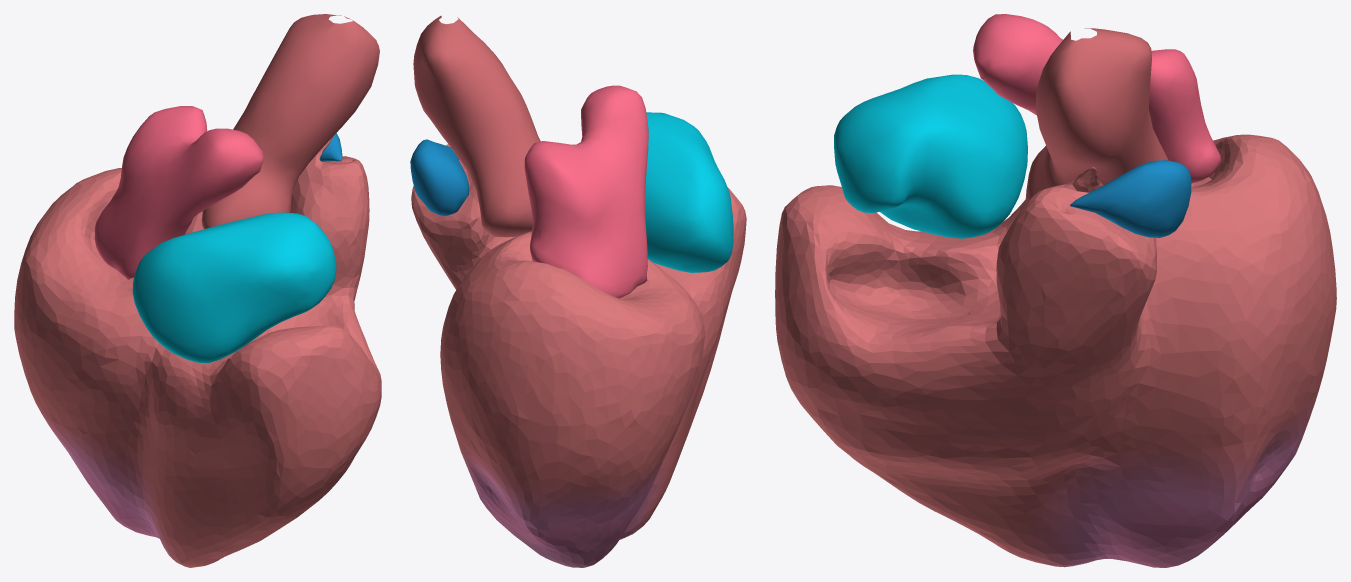
Rendered from frame_1.glb.
3 views of the same model, side by side, from view 1: azimuth 30°, elevation 25°; view 2: azimuth 150°, elevation 25°; view 3: azimuth 270°, elevation 25° (orthographic). The views are drawn at different scales.
Parts seen in each view (by area): view 1: Renderer Node; view 2: Renderer Node; view 3: Renderer Node.
Part boxes in pixels (x1,y1,x2,y2): Renderer Node: (14, 14, 381, 567); Renderer Node: (410, 16, 746, 567); Renderer Node: (775, 14, 1336, 567).
Bounding box in the file's own units: 102 × 158 × 128.
